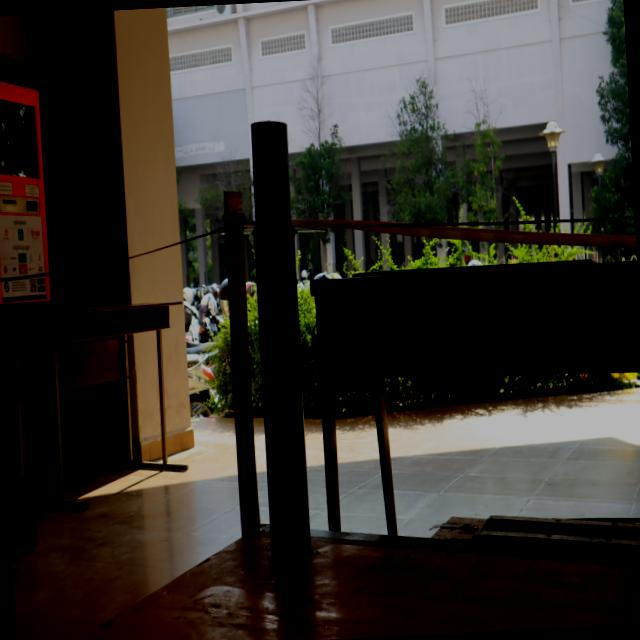pole: (222, 108, 324, 336)
